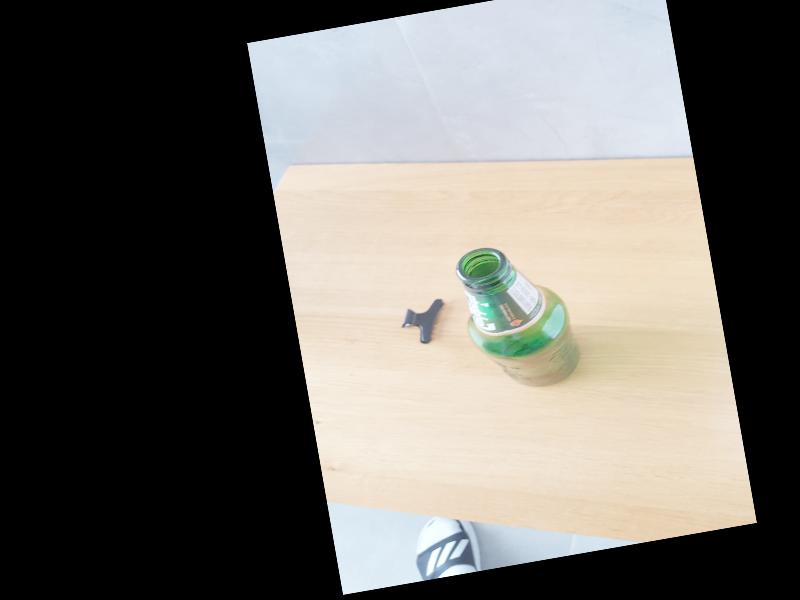Beer: (452, 234, 584, 399)
